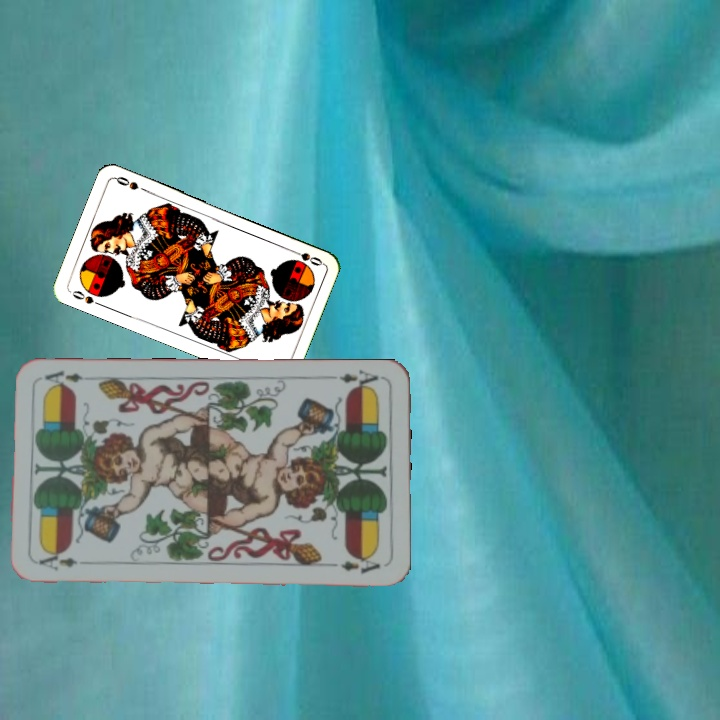EA: (326, 366, 381, 393), (35, 551, 94, 573)
SO: (286, 245, 325, 269), (68, 286, 105, 309)
